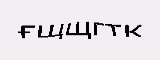Г: (92, 21, 104, 36)
К: (124, 22, 143, 40)
Т: (104, 23, 122, 38)
Щ: (65, 21, 91, 39), (37, 23, 64, 40)
Ғ: (15, 24, 36, 38)
